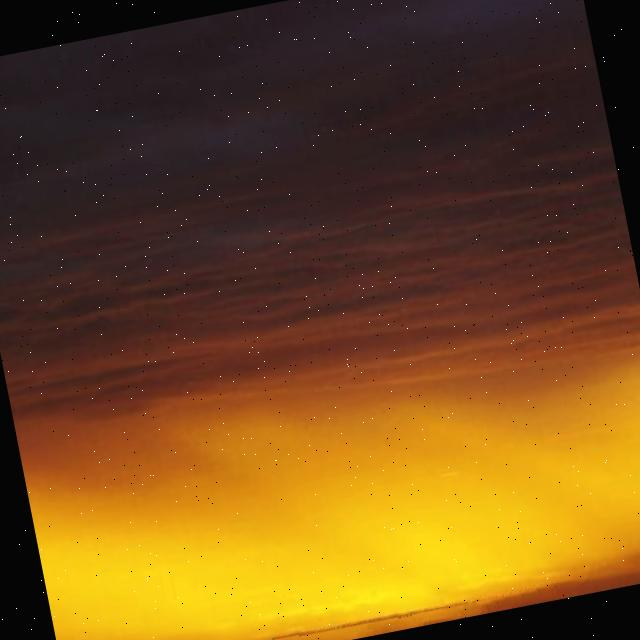As: (1, 68, 640, 559)
